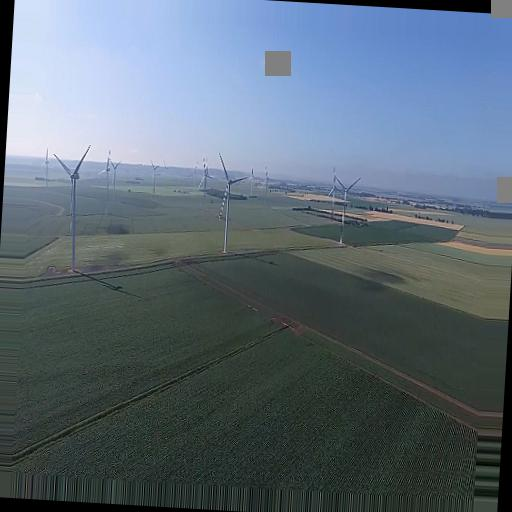wind turbine: (52, 142, 91, 270), (215, 151, 250, 255), (335, 174, 364, 244)
